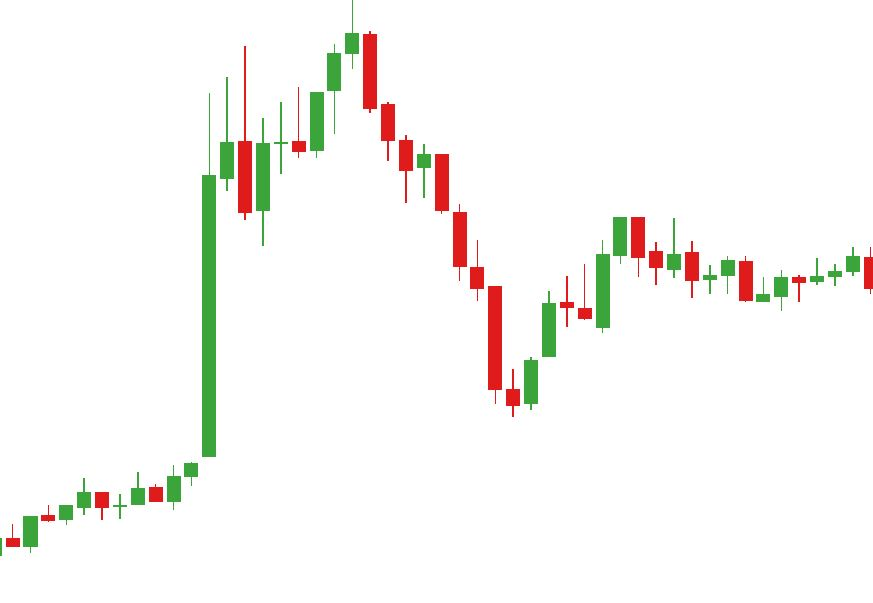sell: (236, 3, 382, 158)
